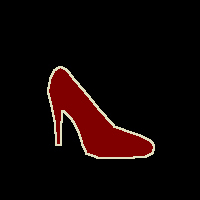shoe: (48, 66, 154, 158)
